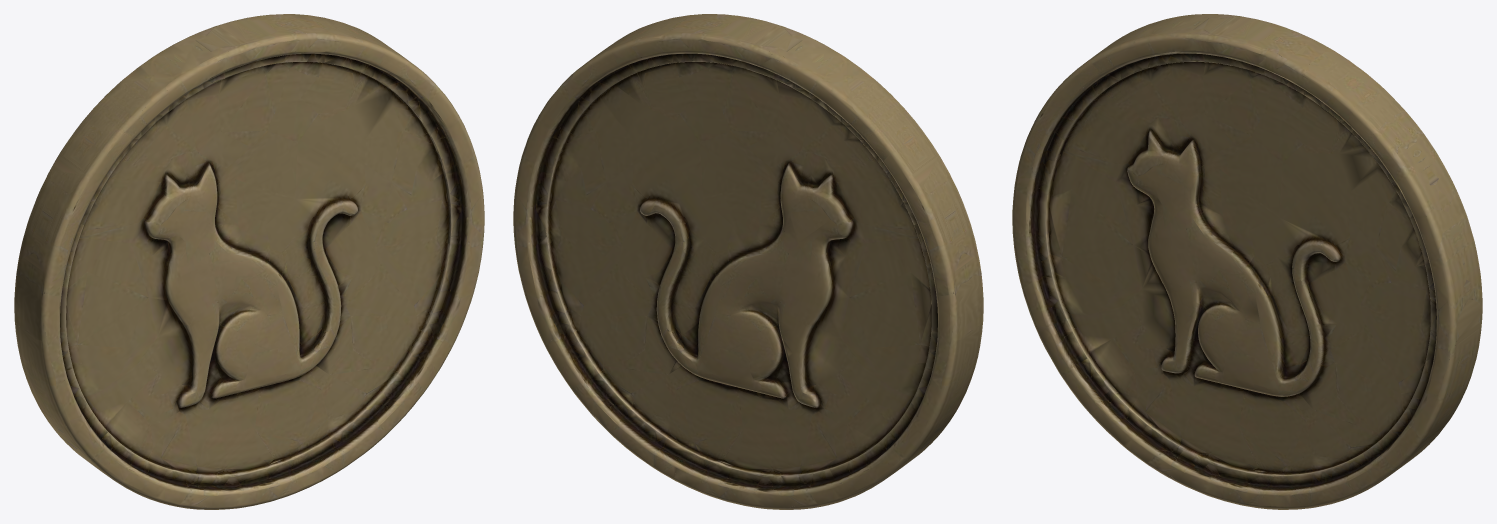
The model's file is medallion_cat.glb.
3 renders of one model, left to right at view 1: azimuth 30°, elevation 25°; view 2: azimuth 150°, elevation 25°; view 3: azimuth 330°, elevation 25°, orthographic.
Parts seen in each view (by area): view 1: Medallion_cat; view 2: Medallion_cat; view 3: Medallion_cat.
Boxes of the visible parts, bbox=[...] form: Medallion_cat: bbox=[14, 14, 484, 509]; Medallion_cat: bbox=[513, 14, 983, 509]; Medallion_cat: bbox=[1012, 14, 1482, 509].
Bounding box in the file's own units: 0.06 × 0.06 × 0.00726.
1 material, 1 textured.
